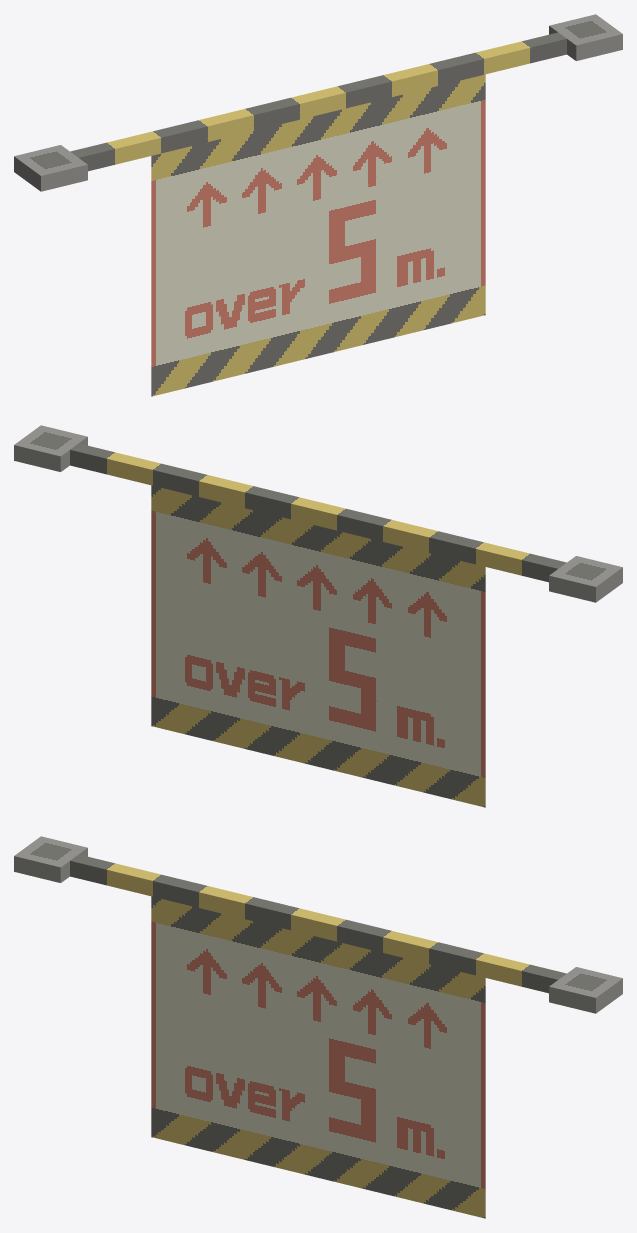
Rendered from 05b8_Over_5m_Sign.glb.
The picture shows the model from 3 angles, top to bottom: view 1: azimuth 30°, elevation 25°; view 2: azimuth 150°, elevation 25°; view 3: azimuth 330°, elevation 25°; orthographic projection.
Parts seen in each view (by area): view 1: part_0; view 2: part_0; view 3: part_0.
Boxes of the visible parts, bbox=[...] form: part_0: bbox=[14, 14, 622, 396]; part_0: bbox=[14, 425, 622, 807]; part_0: bbox=[14, 836, 622, 1218].
Bounding box in the file's own units: 4.35 × 1.86 × 0.35.
Materials: 1 (1 with a texture image).
